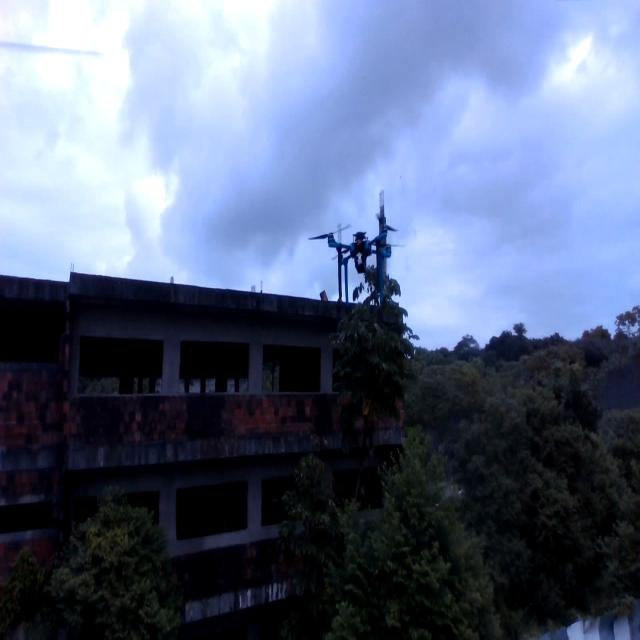-uav-: (306, 210, 408, 310)
